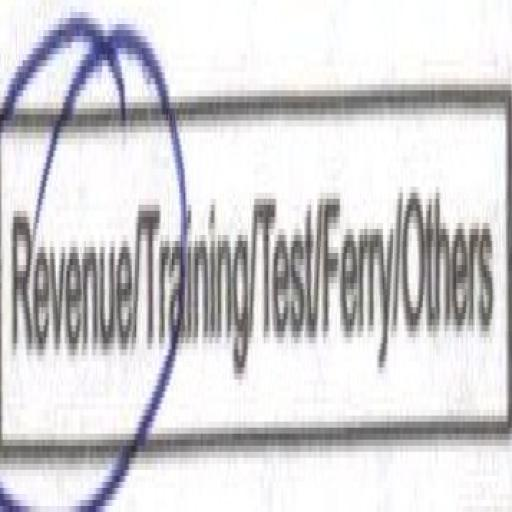check: (0, 6, 141, 512)
